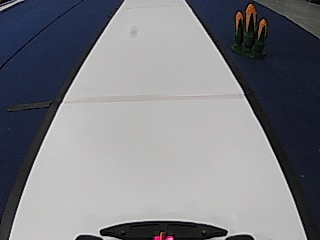corn: (229, 1, 268, 60)
